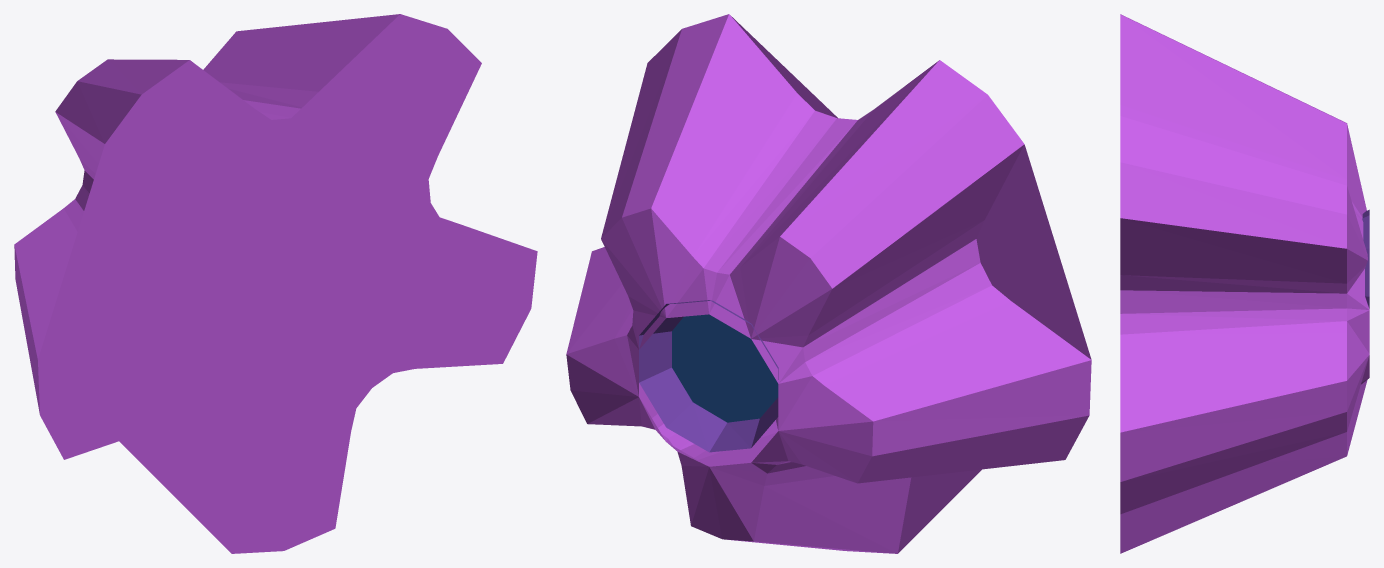
The model's file is flowerPik.FBX.
The picture shows the model from 3 angles, left to right: view 1: azimuth 30°, elevation 25°; view 2: azimuth 150°, elevation 25°; view 3: azimuth 270°, elevation 25°; orthographic projection. The views are drawn at different scales.
Parts seen in each view (by area): view 1: VIFS001; view 2: VIFS001, VIFS003, VIFS002; view 3: VIFS001, VIFS002.
Part boxes in pixels (x1=…): VIFS001: x1=14, y1=14, x2=537, y2=553; VIFS001: x1=566, y1=14, x2=1091, y2=553; VIFS003: x1=672, y1=314, x2=778, y2=422; VIFS002: x1=639, y1=300, x2=778, y2=452; VIFS001: x1=1120, y1=14, x2=1369, y2=553; VIFS002: x1=1362, y1=209, x2=1369, y2=308.
Bounding box in the file's own units: 0.477 × 0.469 × 0.22.
